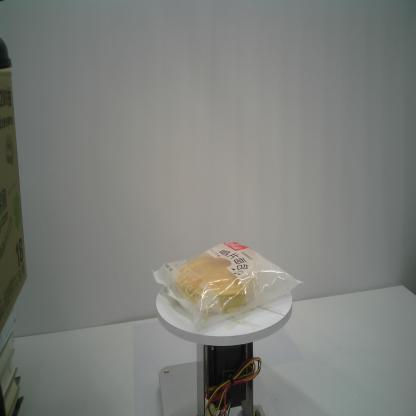Dessert: (149, 239, 306, 336)
